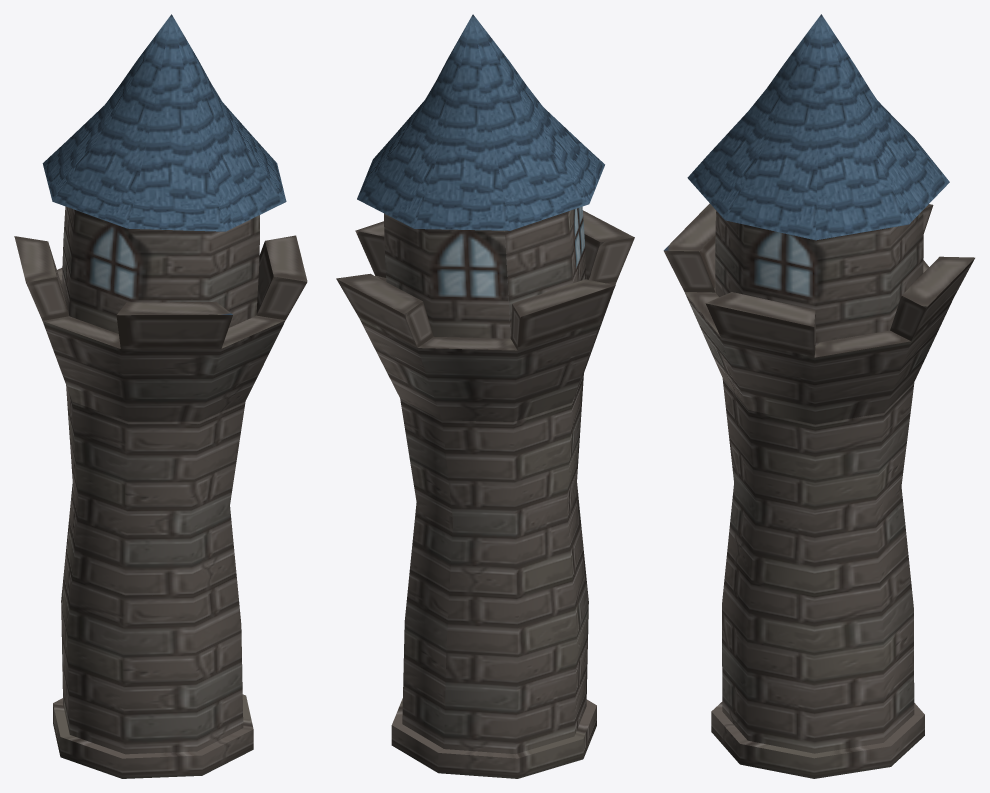
Rendered from Tower2V2_breakable.fbx.
The picture shows the model from 3 angles, left to right: view 1: azimuth 30°, elevation 25°; view 2: azimuth 150°, elevation 25°; view 3: azimuth 270°, elevation 25°; orthographic projection.
Parts seen in each view (by area): view 1: Tower2; view 2: Tower2; view 3: Tower2.
Boxes of the visible parts, x1,y1,x2,y2 form: Tower2: (14,14,307,778); Tower2: (336,14,634,778); Tower2: (663,14,974,778).
Bounding box in the file's own units: 3.35 × 8.65 × 3.35.
